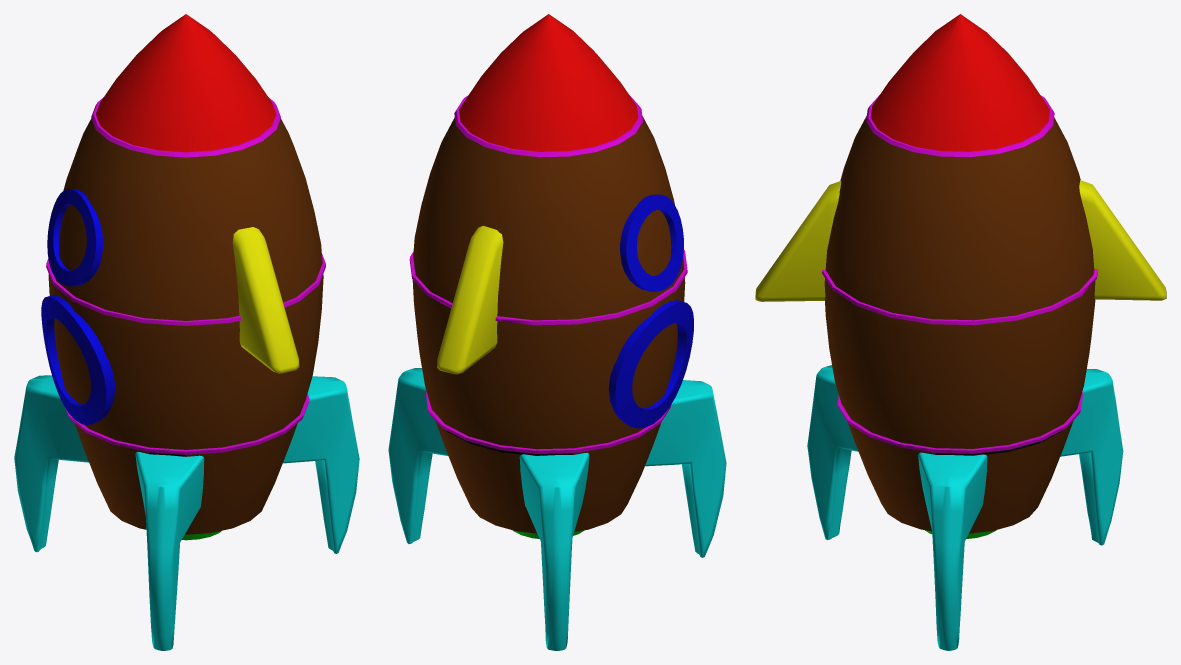
File: rocket_1.fbx
3 renders of one model, left to right at view 1: azimuth 30°, elevation 25°; view 2: azimuth 150°, elevation 25°; view 3: azimuth 270°, elevation 25°, orthographic.
Parts seen in each view (by area): view 1: Rocket_final; view 2: Rocket_final; view 3: Rocket_final.
Boxes of the visible parts, x1,y1,x2,y2 form: Rocket_final: [14, 14, 359, 650]; Rocket_final: [388, 14, 726, 650]; Rocket_final: [755, 14, 1166, 650].
Size of the model in its own units: 218 by 409 by 269.
